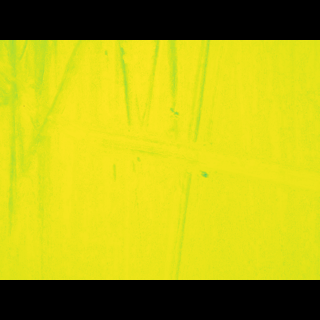Loch: (35, 122, 320, 190), (0, 69, 91, 250), (156, 69, 231, 251), (0, 80, 45, 134)
